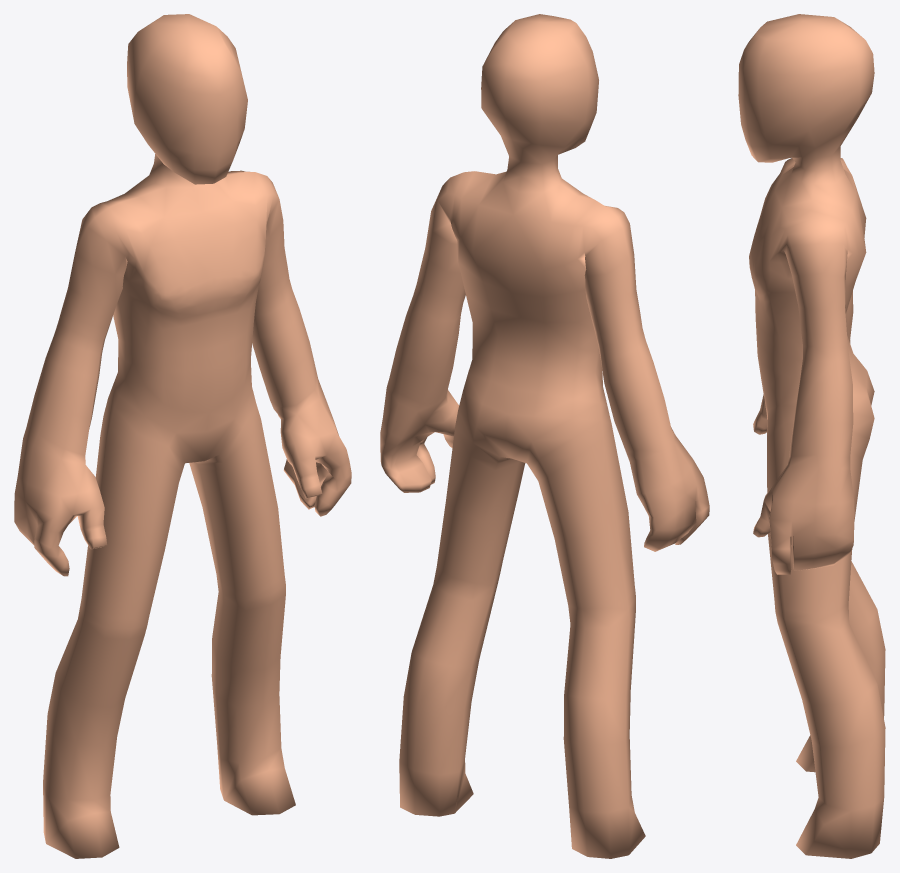
Rendered from human.glb.
3 views of the same model, side by side, from view 1: azimuth 30°, elevation 25°; view 2: azimuth 150°, elevation 25°; view 3: azimuth 270°, elevation 25° (orthographic). The views are drawn at different scales.
Visible parts, largest first — view 1: human; view 2: human; view 3: human.
Part boxes in pixels (box(x1,y1,x2,y2)): human: box(14, 14, 351, 858); human: box(380, 14, 709, 858); human: box(738, 14, 885, 858).
Size of the model in its own units: 0.6327 by 1.58 by 0.2685.
